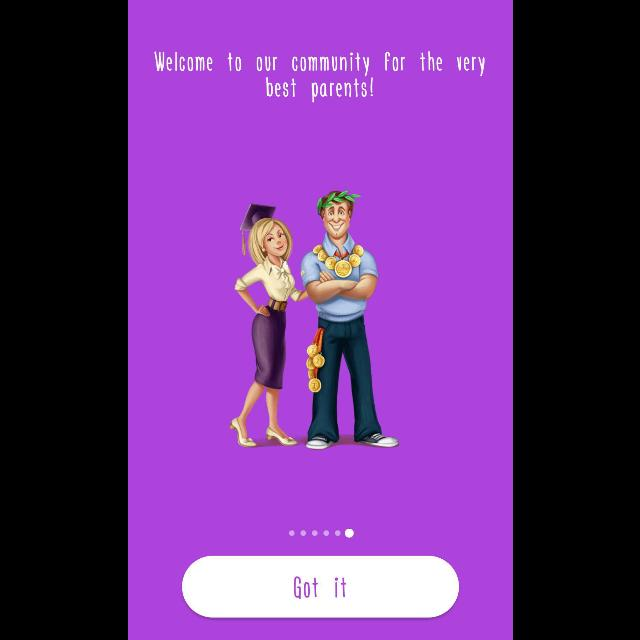image: (228, 189, 398, 449)
pageindicator: (288, 528, 354, 538)
text: (153, 52, 484, 102)
textbutton: (182, 556, 458, 618)
